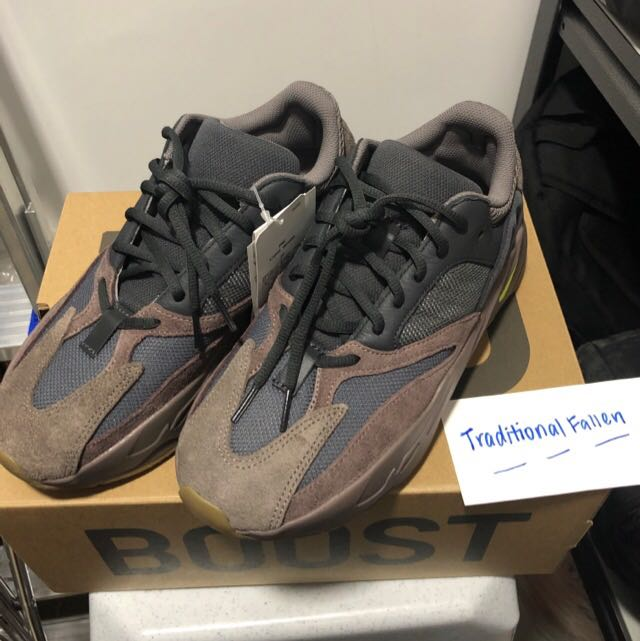adidas Yeezy 700 Mauve: (170, 101, 528, 545), (1, 64, 357, 500)
